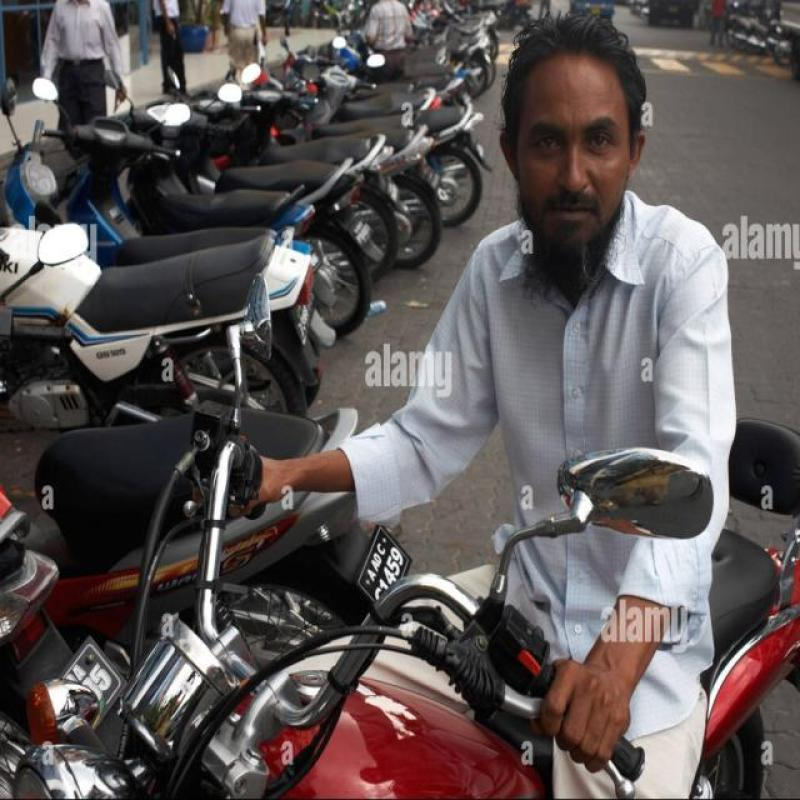nohelmet: (472, 4, 654, 288)
